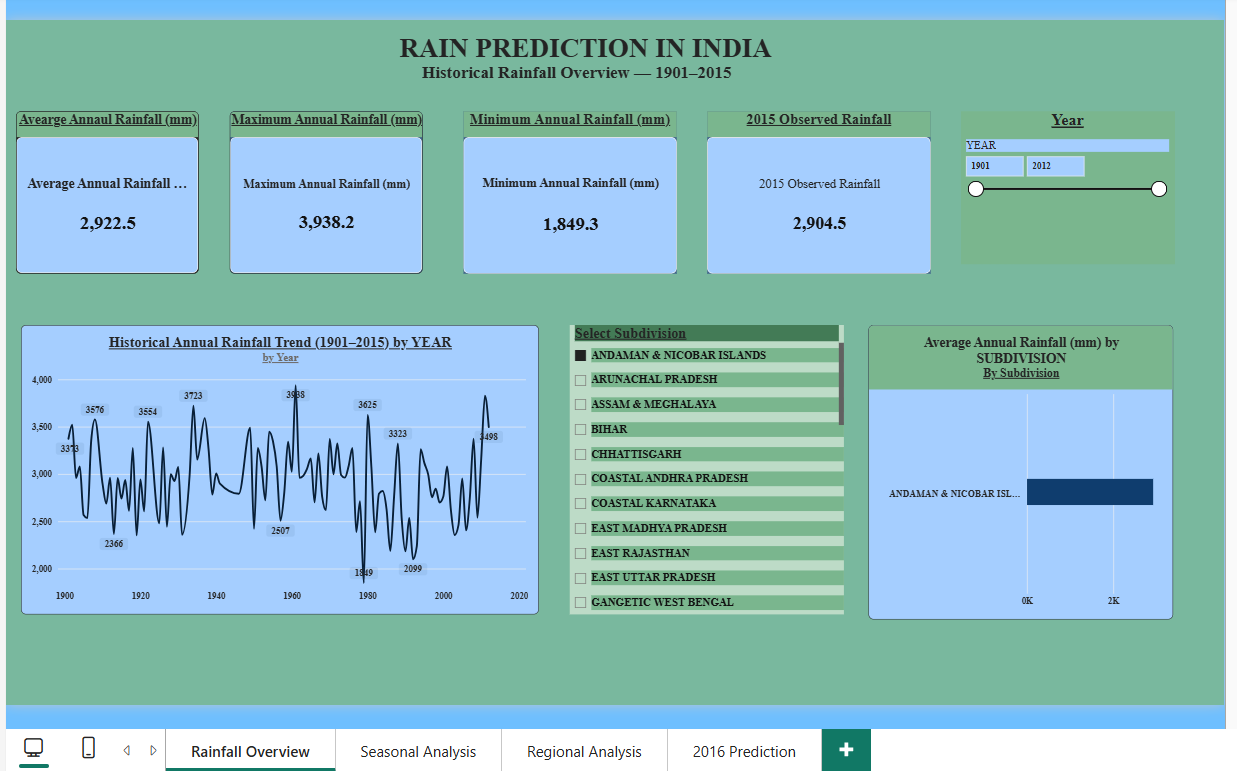

This screenshot's page, from the dashboard's own definition file:
{"tool":"powerbi","page":{"name":"Rainfall Overview","canvas":[1920,1080],"ordinal":0},"visuals":[{"type":"textbox","box":[0,0,1752,168],"z":0},{"type":"cardVisual","title":"Avearge Annaul Rainfall (mm)","fields":{"Data":["DimSubdivision.Average Annual Rainfall"]},"box":[16,144,288,256],"z":1000},{"type":"cardVisual","title":"Maximum Annual Rainfall (mm)","fields":{"Data":["DimSubdivision.Maximum Annual Rainfall"]},"box":[352,144,304,256],"z":2000},{"type":"cardVisual","title":"Minimum Annual Rainfall (mm)","fields":{"Data":["DimSubdivision.Minimum Annual Rainfall"]},"box":[720,144,336,256],"z":3000},{"type":"cardVisual","title":"2015 Observed Rainfall","fields":{"Data":["DimSubdivision.2015 Observed Rainfall"]},"box":[1104,144,352,256],"z":4000},{"type":"lineChart","fields":{"Category":["rainfall_cleaned.YEAR"],"Y":["Avg(rainfall_cleaned.ANNUAL)"]},"box":[24,480,816,456],"z":5000},{"type":"slicer","title":"Year","fields":{"Values":["rainfall_cleaned.YEAR"]},"box":[1504,144,336,240],"z":6000},{"type":"slicer","fields":{"Values":["DimSubdivision.SUBDIVISION"]},"box":[888,480,432,456],"z":7000},{"type":"clusteredBarChart","fields":{"Category":["DimSubdivision.SUBDIVISION"],"Y":["DimSubdivision.Average Annual Rainfall (mm)"]},"box":[1360,480,480,464],"z":8000}]}

Visuals, with their boxes on the page's 1920x1080 design canvas (x1, y1, x2, y2). These are canvas units, not pixel positions in the 1237x771 screenshot, which may show the page scaled, cropped or inside an application window:
textbox: bbox=[0, 0, 1752, 168]
"Avearge Annaul Rainfall (mm)" cardVisual: bbox=[16, 144, 304, 400]
"Maximum Annual Rainfall (mm)" cardVisual: bbox=[352, 144, 656, 400]
"Minimum Annual Rainfall (mm)" cardVisual: bbox=[720, 144, 1056, 400]
"2015 Observed Rainfall" cardVisual: bbox=[1104, 144, 1456, 400]
lineChart - rainfall_cleaned.YEAR x Avg(rainfall_cleaned.ANNUAL): bbox=[24, 480, 840, 936]
"Year" slicer: bbox=[1504, 144, 1840, 384]
slicer - DimSubdivision.SUBDIVISION: bbox=[888, 480, 1320, 936]
clusteredBarChart - DimSubdivision.SUBDIVISION x DimSubdivision.Average Annual Rainfall (mm): bbox=[1360, 480, 1840, 944]
